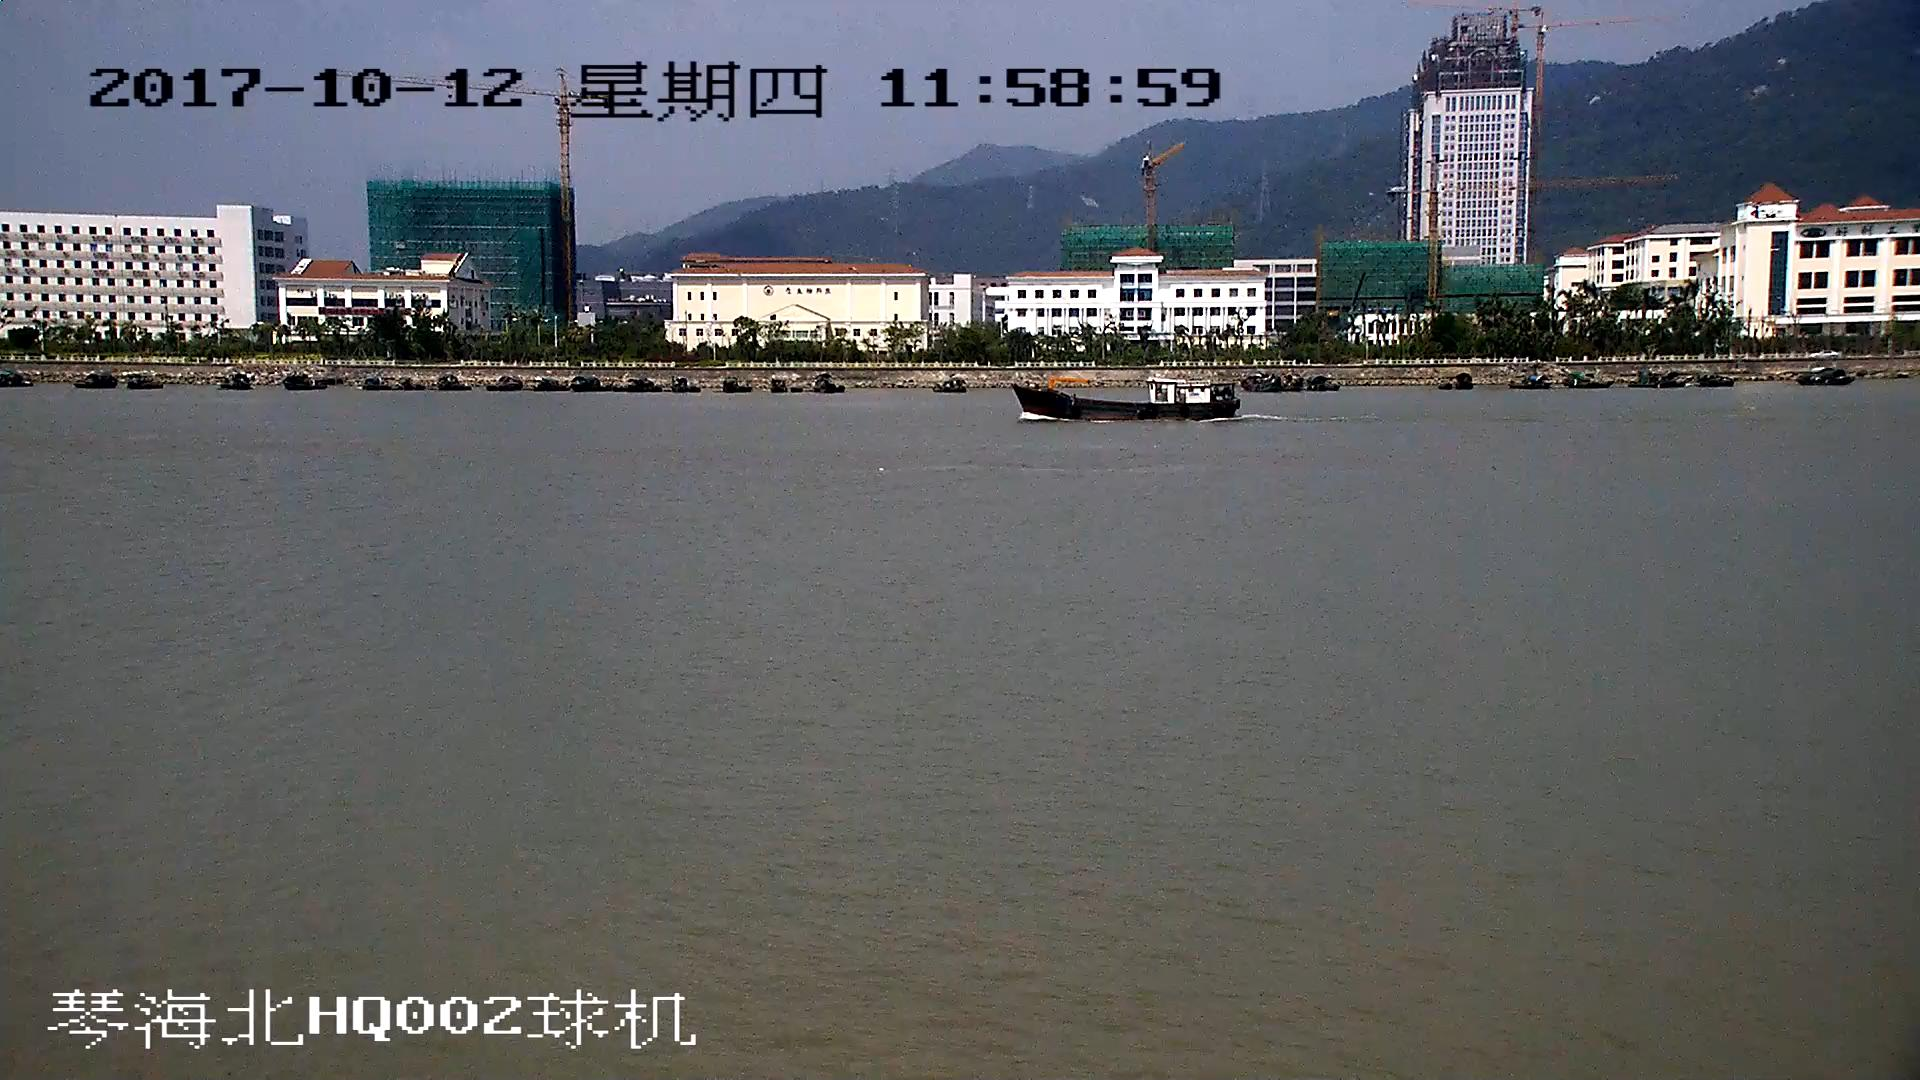fishing boat: (1009, 381, 1238, 419)
